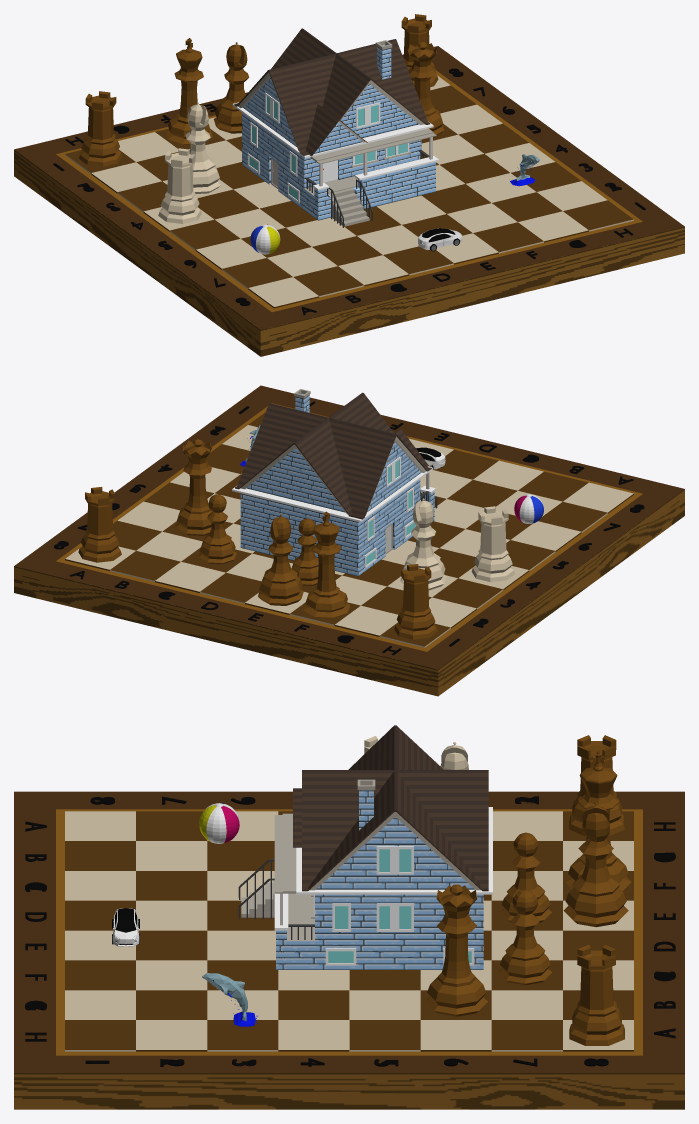
3 renders of one model, top to bottom at view 1: azimuth 30°, elevation 25°; view 2: azimuth 150°, elevation 25°; view 3: azimuth 270°, elevation 25°, orthographic. The views are drawn at different scales.
Parts seen in each view (by area): view 1: Cube.002, Cube.547, VEHICLES_TESLA, OBJRANDOM_BEACHBALL; view 2: Cube.002, Cube.547, OBJRANDOM_BEACHBALL; view 3: Cube.002, Cube.547, OBJRANDOM_BEACHBALL, ANIMAL_DELFIN, VEHICLES_TESLA.
Boxes of the visible parts, x1=… form: Cube.002: x1=14, y1=14, x2=684, y2=356; Cube.547: x1=232, y1=28, x2=438, y2=227; VEHICLES_TESLA: x1=418, y1=228, x2=462, y2=251; OBJRANDOM_BEACHBALL: x1=250, y1=224, x2=280, y2=254; Cube.002: x1=14, y1=385, x2=684, y2=696; Cube.547: x1=232, y1=389, x2=437, y2=576; OBJRANDOM_BEACHBALL: x1=514, y1=494, x2=543, y2=523; Cube.002: x1=14, y1=735, x2=684, y2=1109; Cube.547: x1=238, y1=725, x2=492, y2=969; OBJRANDOM_BEACHBALL: x1=199, y1=803, x2=239, y2=843; ANIMAL_DELFIN: x1=202, y1=973, x2=257, y2=1027; VEHICLES_TESLA: x1=112, y1=908, x2=139, y2=946.
Bounding box in the file's own units: 3981 × 1434 × 4012.
32 materials, 4 textured.
